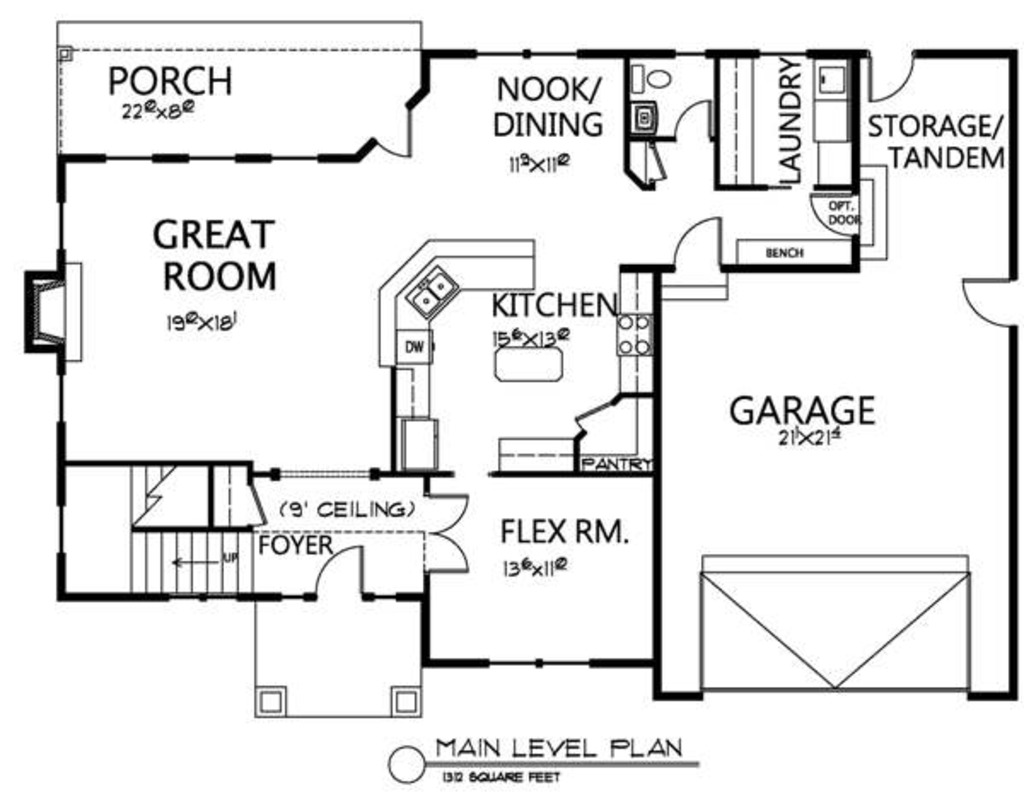door: (666, 198, 730, 290), (289, 537, 375, 604), (959, 264, 1018, 337), (425, 491, 473, 580), (362, 105, 424, 168), (557, 381, 625, 437), (859, 41, 916, 104), (812, 185, 868, 244), (664, 100, 719, 138)
large_sink: (621, 54, 681, 93)
stairs: (102, 461, 267, 595)
twin_sink: (407, 265, 468, 323)
window: (492, 651, 592, 674), (480, 44, 575, 65), (100, 143, 164, 171), (267, 142, 322, 174), (186, 146, 240, 169), (57, 370, 67, 417)
